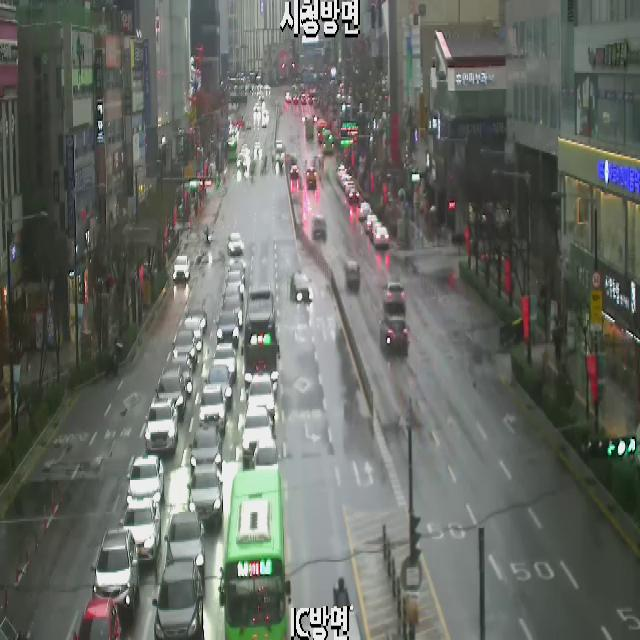Bus: (218, 469, 290, 640), (241, 291, 280, 391), (322, 129, 335, 154), (227, 136, 237, 162)
Car: (152, 562, 205, 640), (91, 530, 139, 614), (164, 512, 205, 582), (120, 498, 160, 563), (187, 464, 223, 528), (73, 598, 122, 640), (126, 455, 164, 507), (145, 399, 178, 455), (242, 408, 273, 463), (189, 427, 222, 476), (155, 366, 186, 415), (199, 384, 226, 434), (247, 374, 275, 418), (379, 317, 410, 355), (205, 365, 232, 407), (170, 357, 193, 396), (172, 331, 198, 365), (252, 441, 281, 469), (214, 345, 237, 378), (382, 283, 406, 314), (216, 315, 239, 347), (290, 274, 314, 304), (185, 318, 202, 349), (172, 256, 190, 284), (225, 273, 244, 298), (344, 261, 360, 290), (222, 304, 242, 325), (228, 262, 245, 285), (222, 287, 242, 306), (186, 311, 207, 329), (312, 217, 327, 242), (228, 233, 245, 255), (374, 227, 389, 248), (358, 202, 372, 221), (364, 215, 378, 234), (369, 220, 382, 240), (306, 168, 316, 187), (237, 153, 247, 169), (345, 182, 356, 196), (348, 188, 359, 202), (290, 165, 300, 179), (338, 165, 347, 180), (341, 175, 350, 188)
